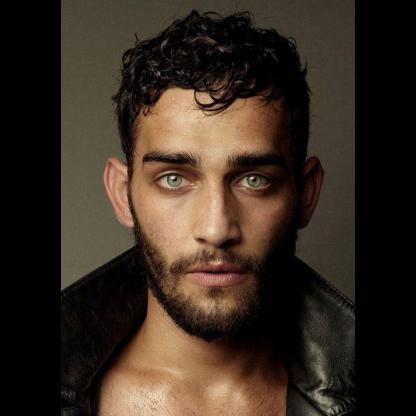Male: (101, 81, 324, 324)
